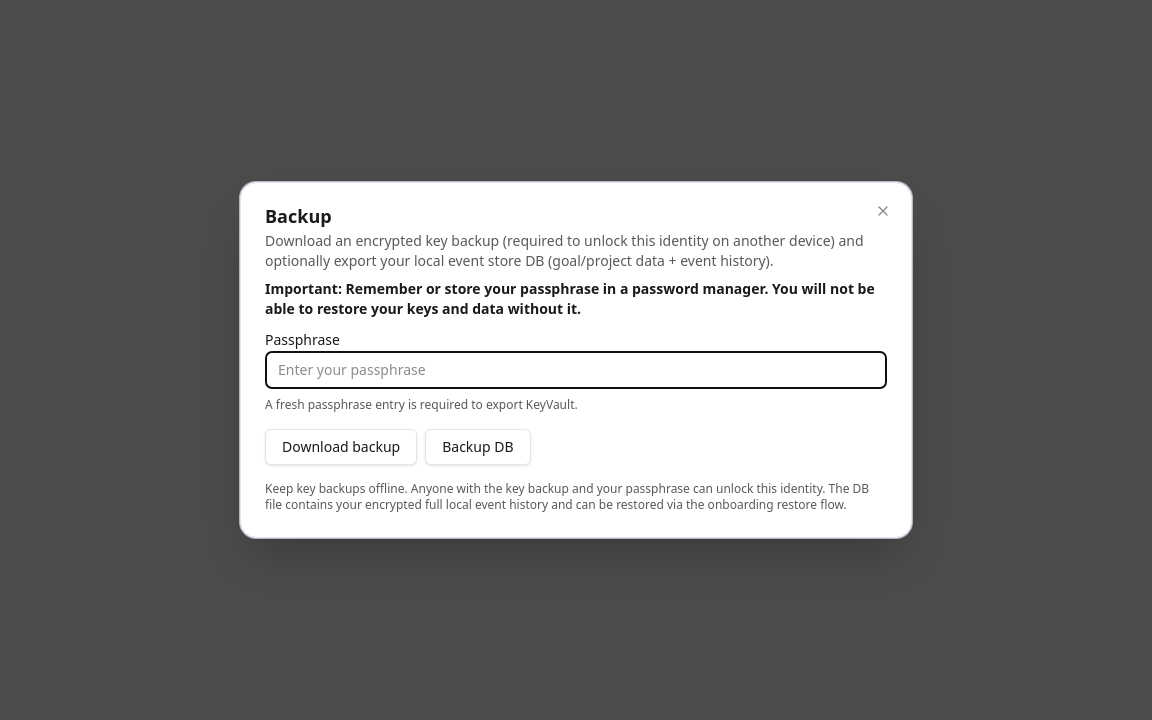
Scenario: BackupModal › shows error when passphrase is missing
Click the button "Download backup".
click(341, 447)  # box [265,429,417,465]
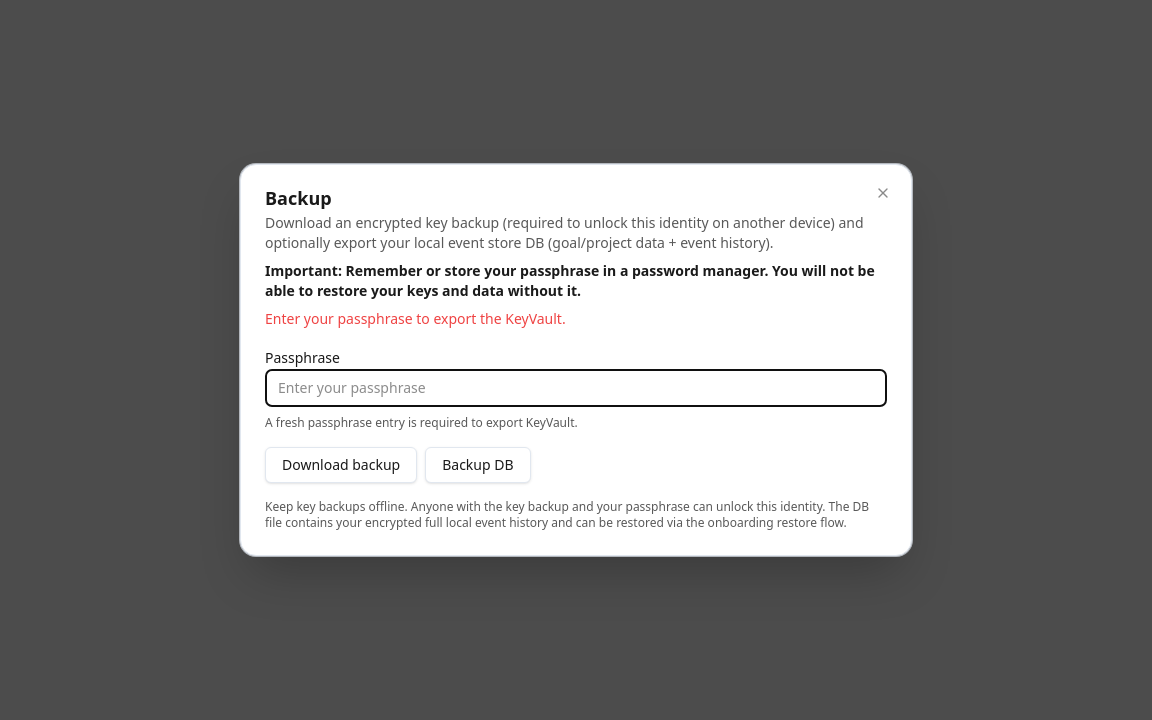
Check: the text "Enter your passphrase to export the KeyVault." is shown, box [265,309,566,328]
